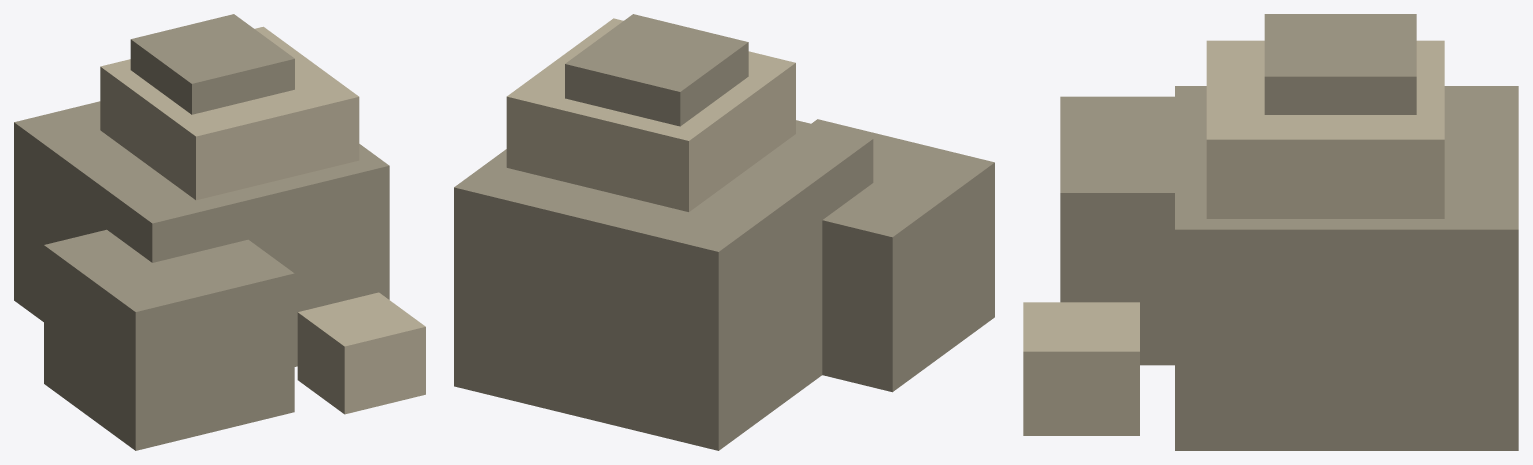
File: fbx_rock01.fbx
3 renders of one model, left to right at view 1: azimuth 30°, elevation 25°; view 2: azimuth 150°, elevation 25°; view 3: azimuth 270°, elevation 25°, orthographic. The views are drawn at different scales.
Visible parts, largest first — view 1: sm_rock01; view 2: sm_rock01; view 3: sm_rock01.
Boxes of the visible parts, left/top/right/bottom form: sm_rock01: left=14, top=14, right=425, bottom=450; sm_rock01: left=454, top=14, right=994, bottom=450; sm_rock01: left=1023, top=14, right=1518, bottom=450.
Bounding box in the file's own units: 75.62 × 65.74 × 87.06.
